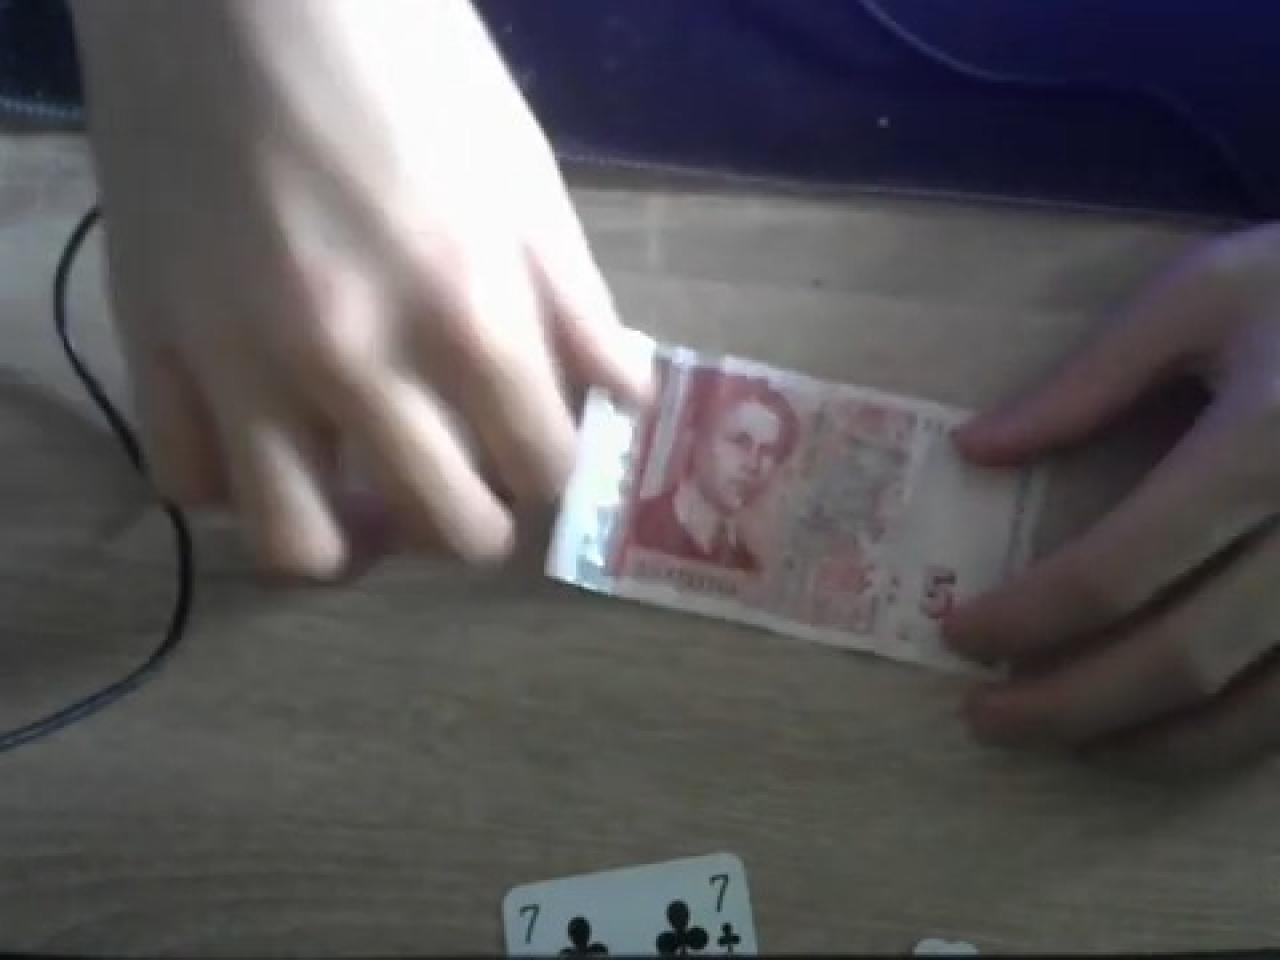5leva: (549, 347, 1040, 675)
